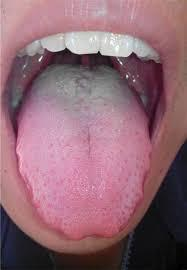baitaishe: (14, 64, 152, 241)
chihenshe: (14, 146, 43, 212), (140, 119, 152, 197)
hongshe: (14, 64, 152, 241)
xinfeiao: (77, 229, 110, 242)
